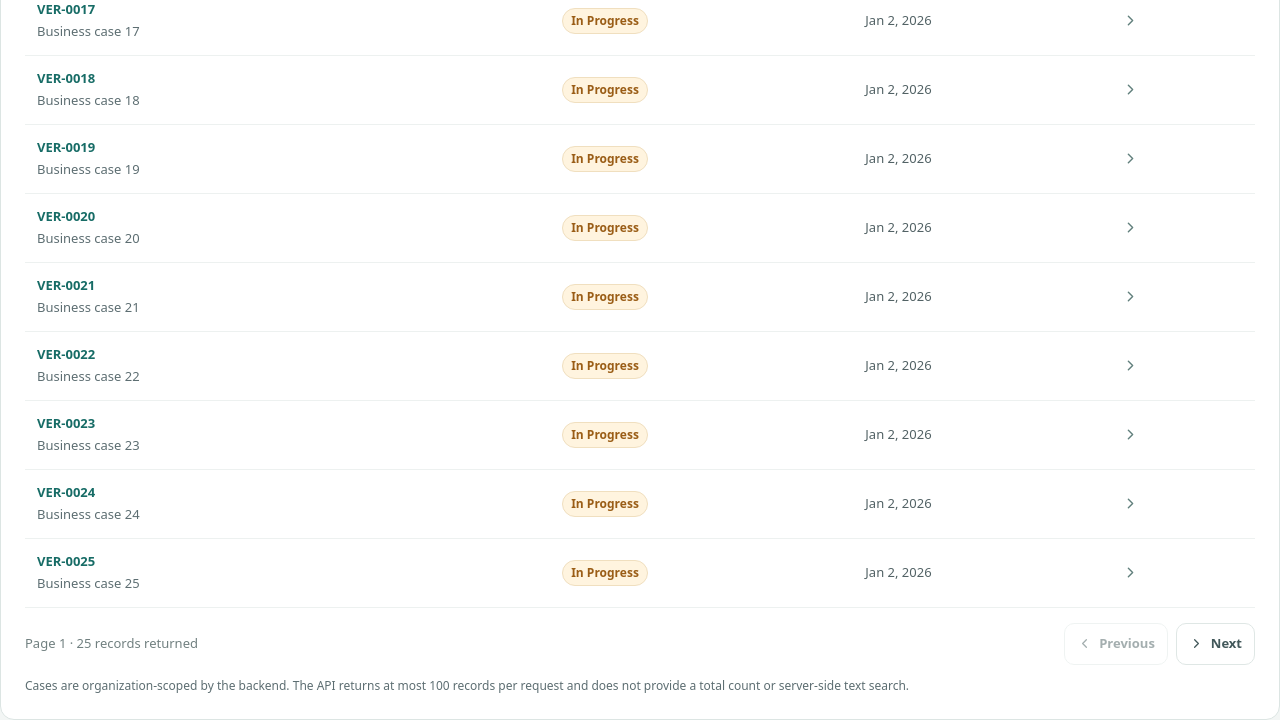
Test case: case register › requests the next server page using the documented skip and limit
(page scrolled)
Click the button "Next": coordinates (1215, 644) [1176,623,1255,665]
(page scrolled)
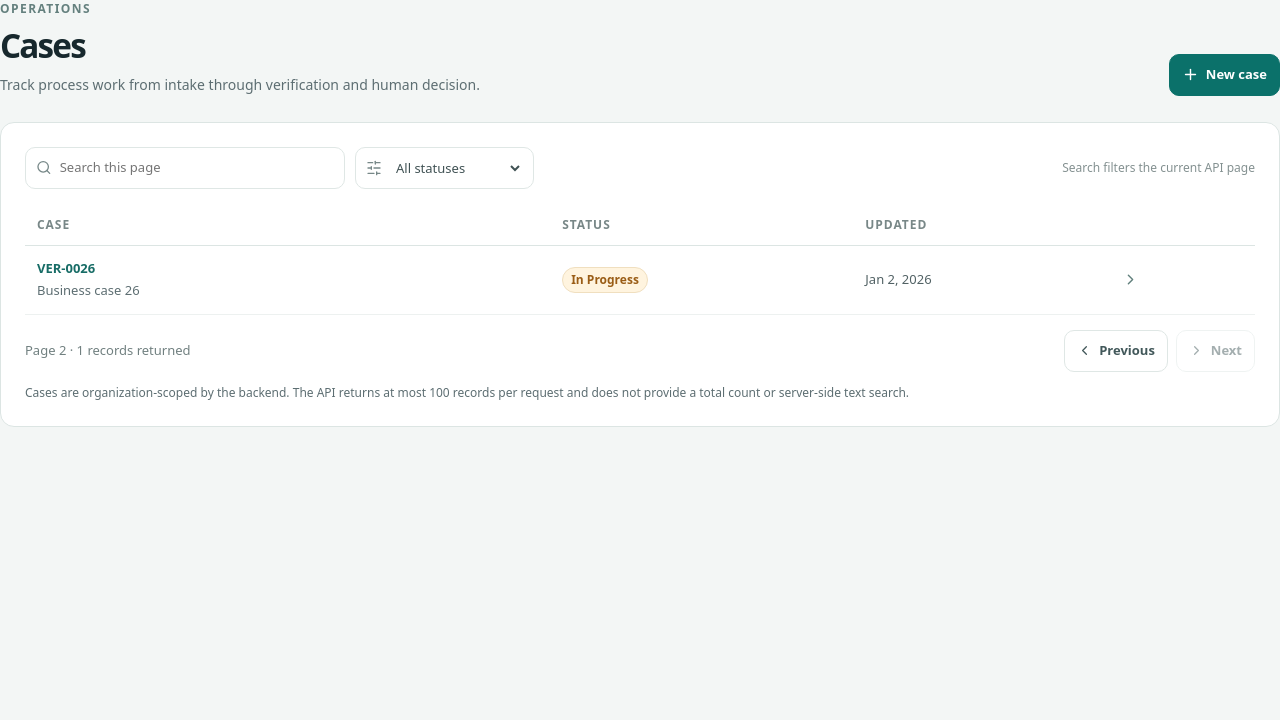
Expected: the link "VER-0026" is shown, [37,259,95,278]
Expected: the button "Next" is disabled, [1176,330,1255,372]
